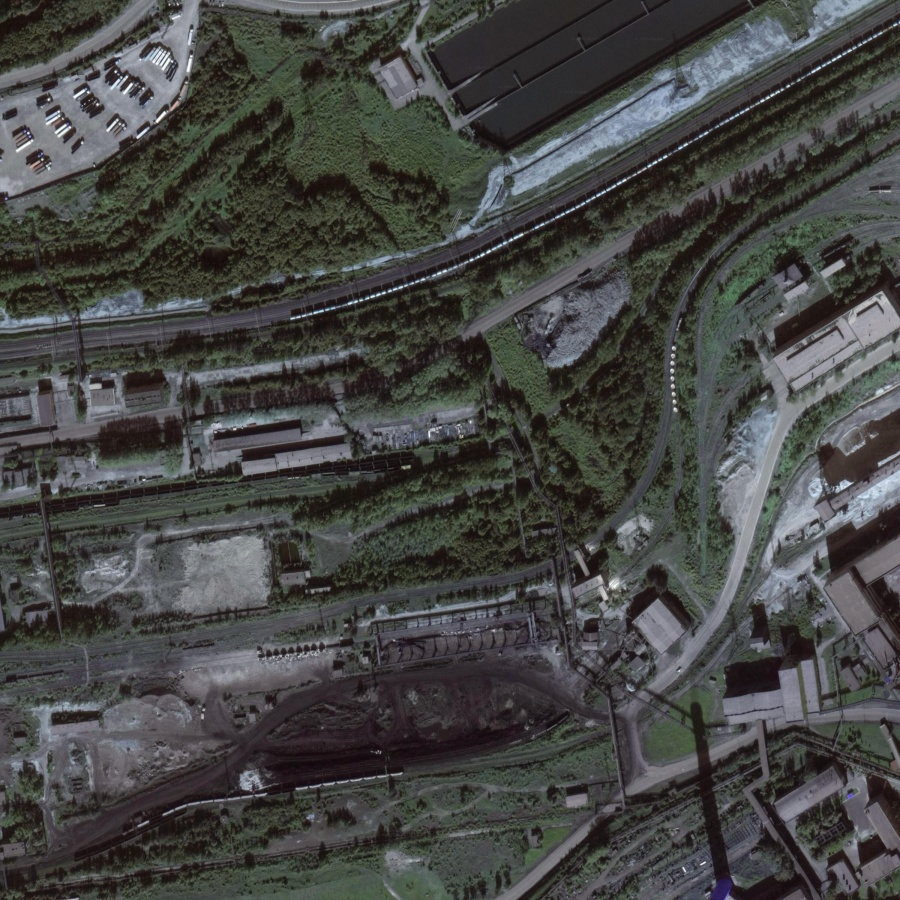PowerPlant: (138, 638, 578, 802)
